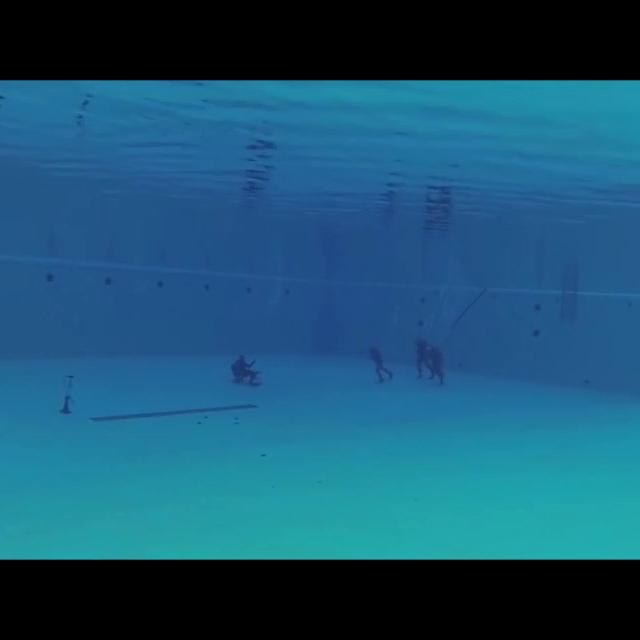human: (228, 339, 265, 397), (362, 339, 400, 391), (428, 341, 454, 390), (412, 335, 435, 383)
